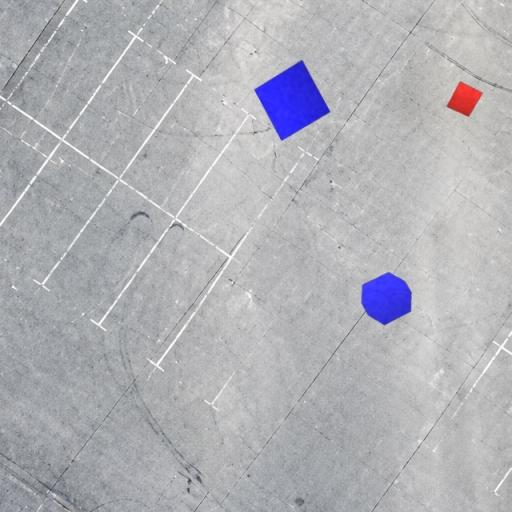BLUE_SQUARE: (254, 59, 330, 141)
RED_SQUARE: (446, 80, 484, 118)
